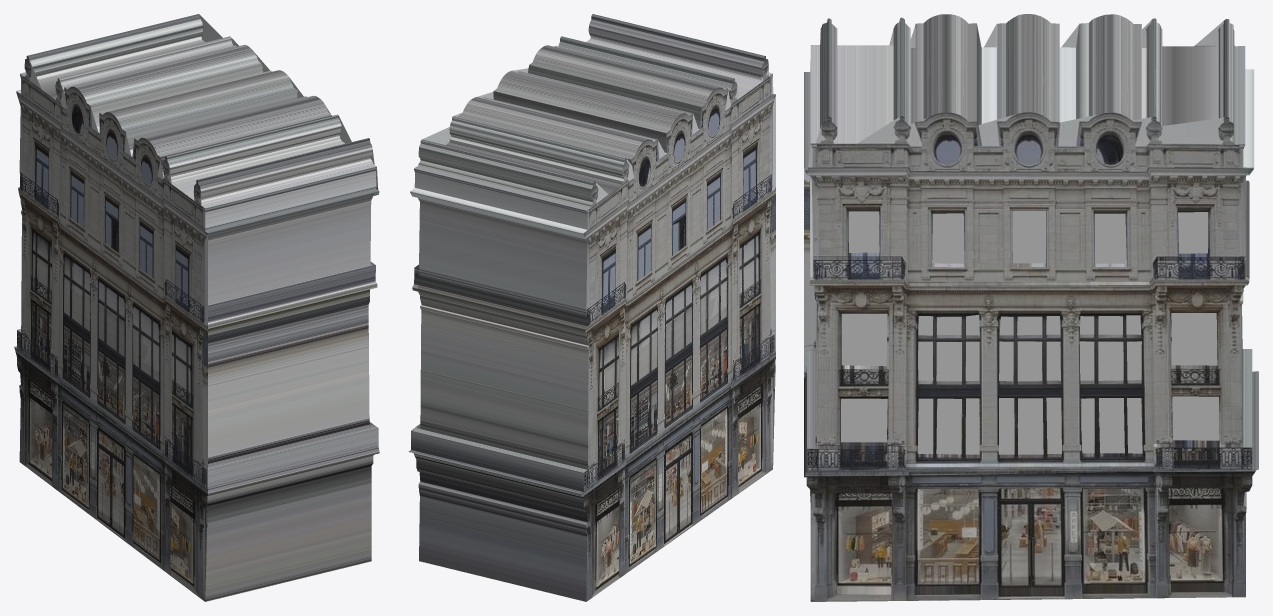
The picture shows the model from 3 angles, left to right: view 1: azimuth 30°, elevation 25°; view 2: azimuth 150°, elevation 25°; view 3: azimuth 270°, elevation 25°; orthographic projection. The views are drawn at different scales.
Visible parts, largest first — view 1: ev_2; view 2: ev_2; view 3: ev_2.
Part boxes in pixels (bbox=[...]): ev_2: bbox=[14, 14, 379, 601]; ev_2: bbox=[408, 14, 775, 601]; ev_2: bbox=[804, 14, 1258, 601].
Bounding box in the file's own units: 121 × 282 × 236.
Materials: 2 (1 with a texture image).
